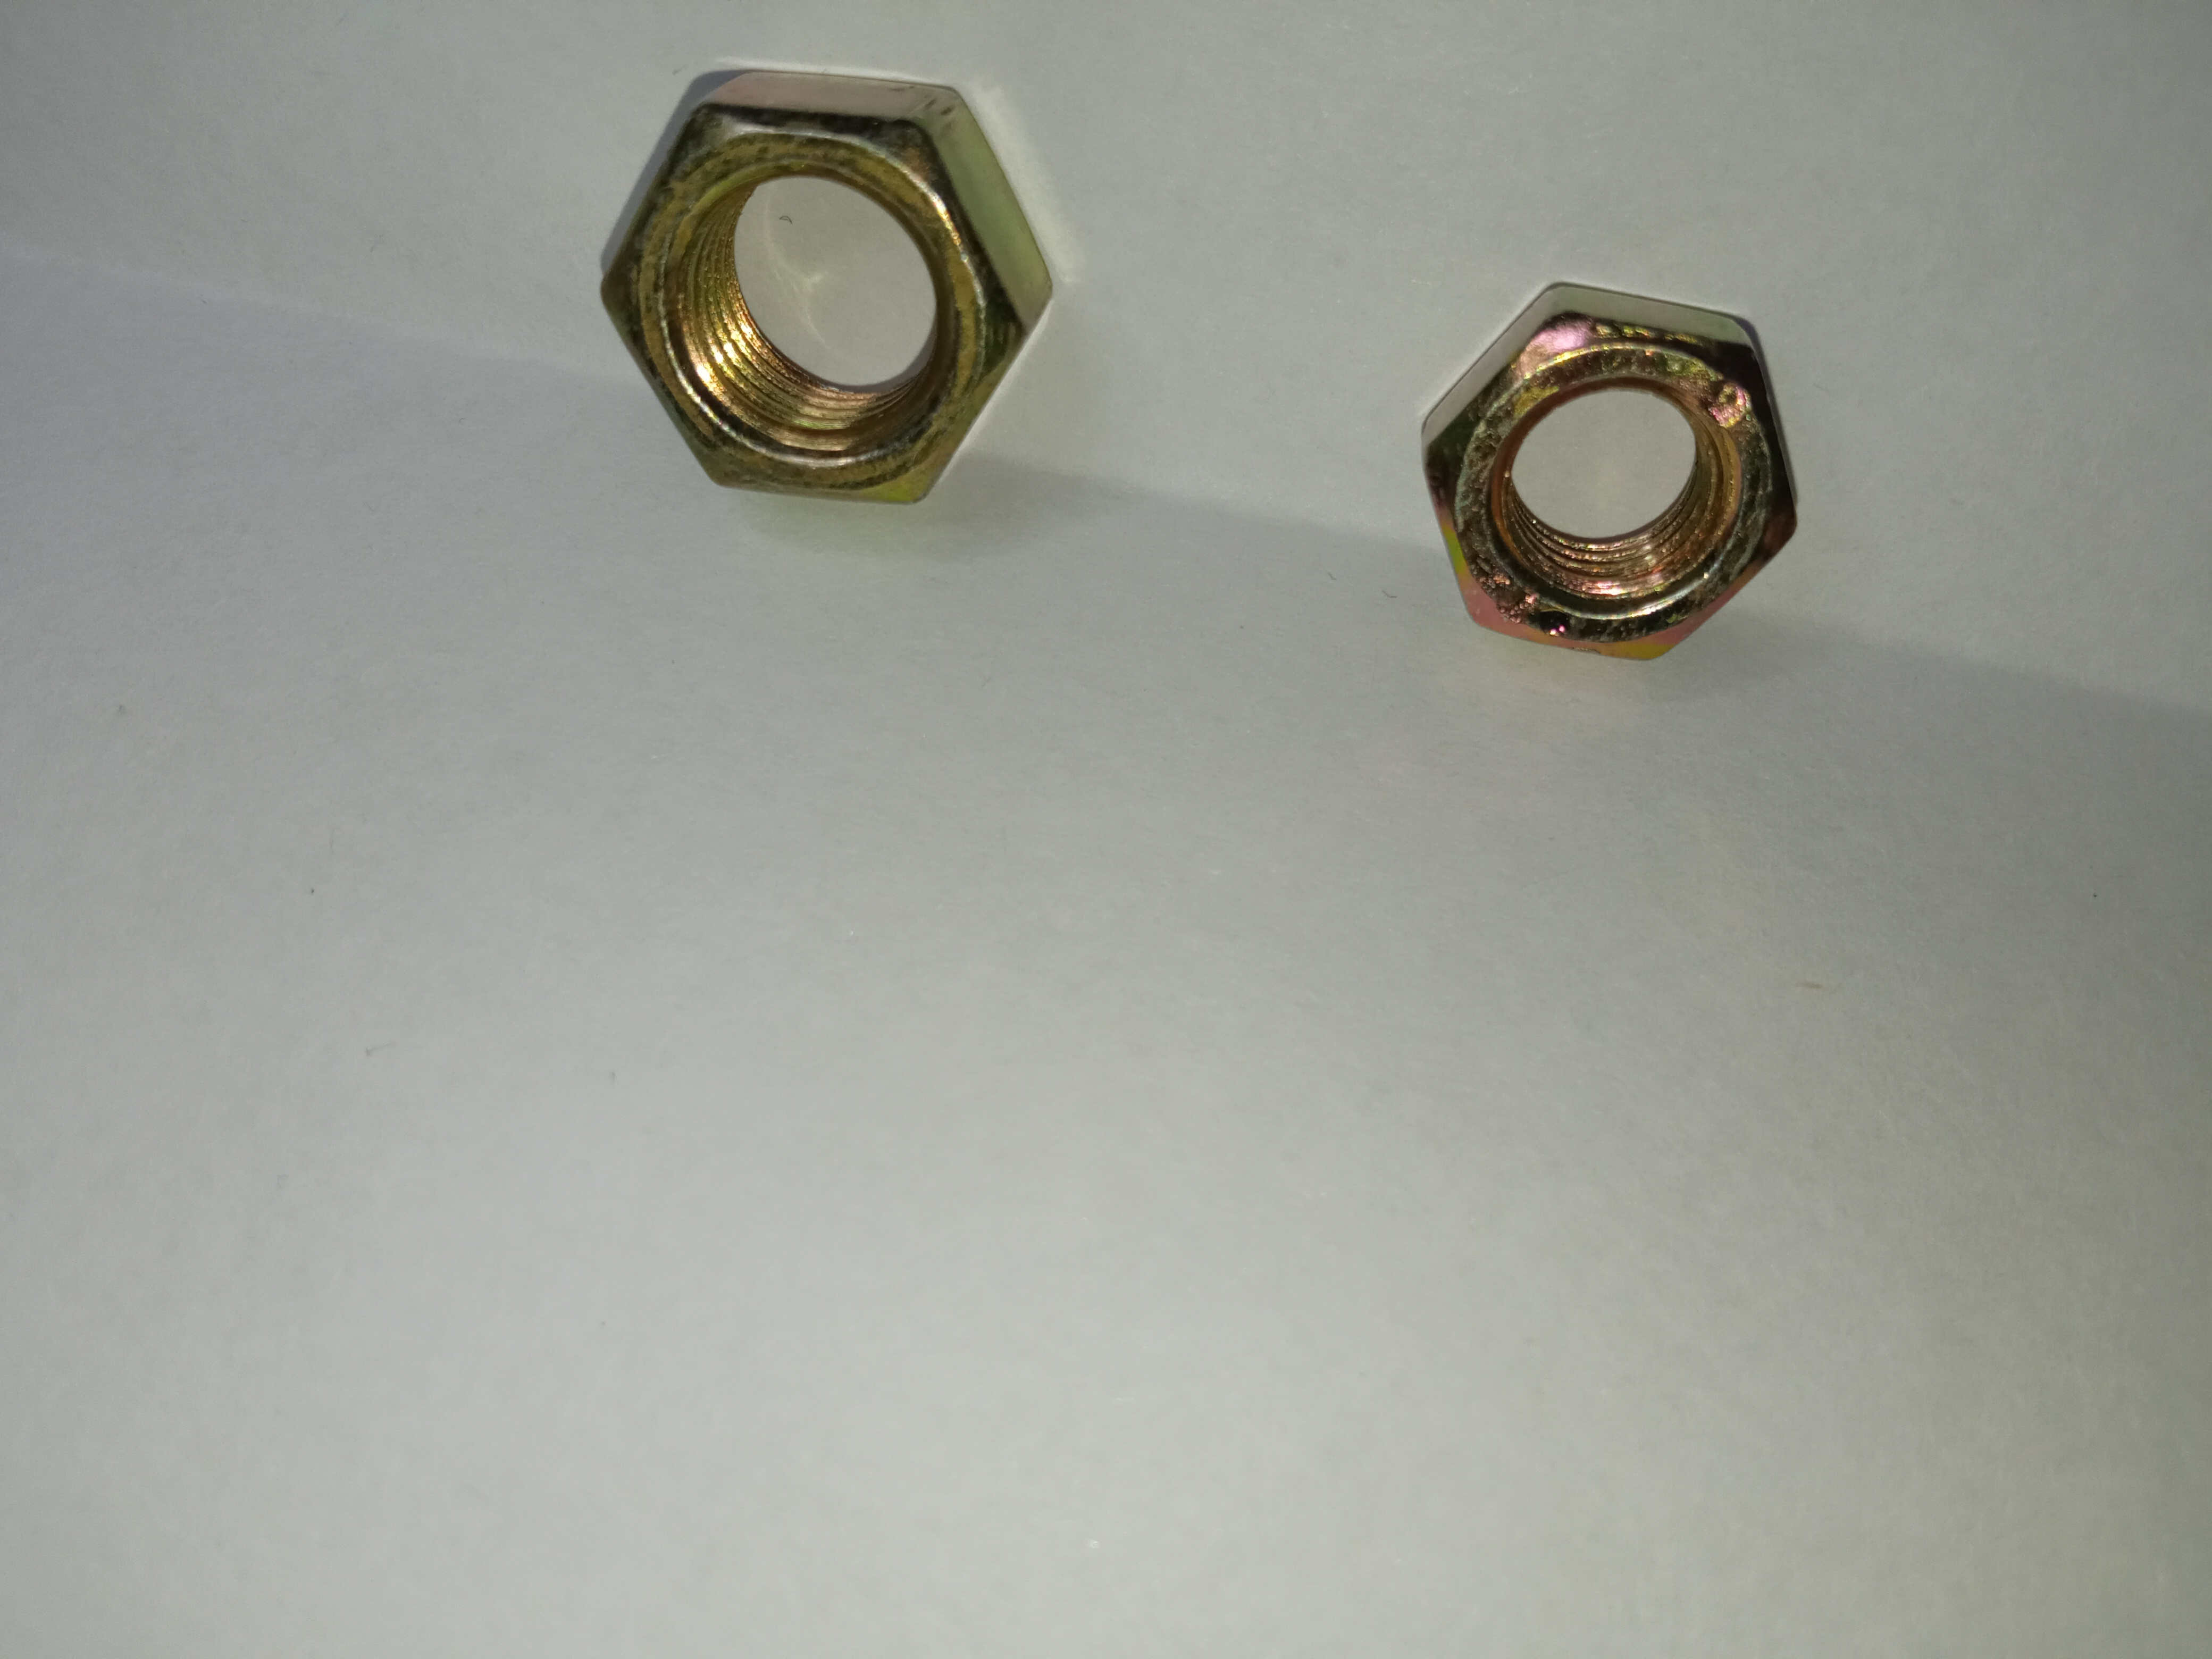m10: (611, 68, 1021, 500)
m8: (1432, 281, 1791, 674)
